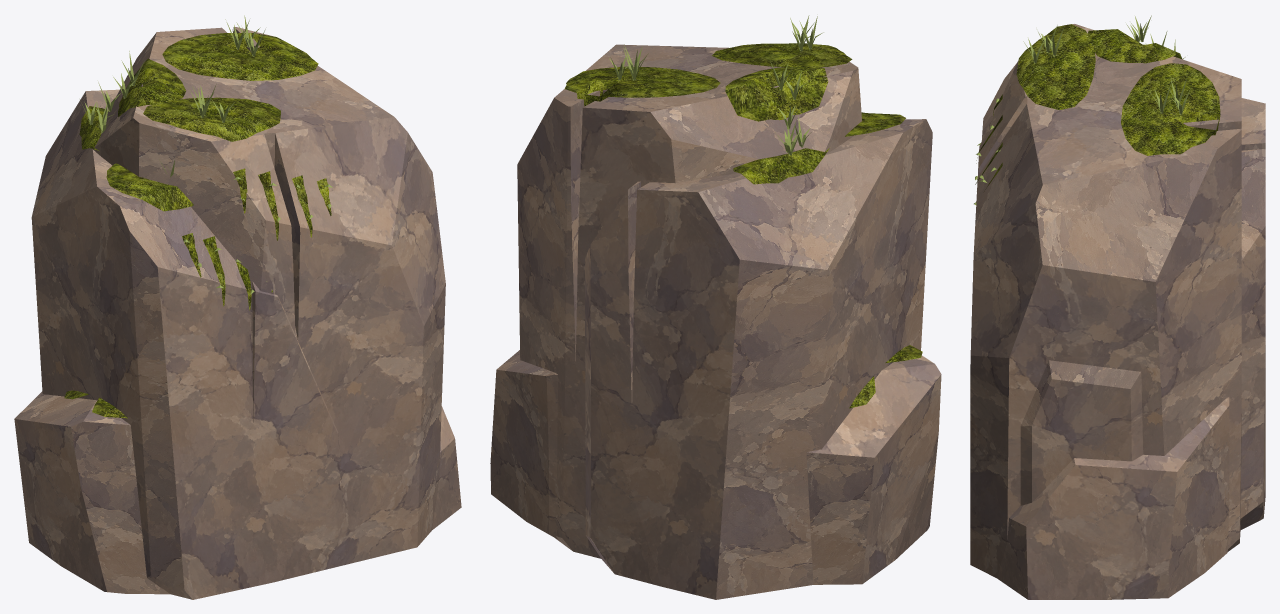
The model's file is rock-kit.glb.
The picture shows the model from 3 angles, left to right: view 1: azimuth 30°, elevation 25°; view 2: azimuth 150°, elevation 25°; view 3: azimuth 270°, elevation 25°; orthographic projection. The views are drawn at different scales.
Parts seen in each view (by area): view 1: cliff-corner__stone, cliff__stone, ledge__stone, cliff__moss, cliff-corner__moss, cliff__plants; view 2: cliff-corner__stone, cliff__stone, ledge__stone, cliff__moss, cliff-corner__moss, cliff__plants, ledge__moss; view 3: cliff__stone, ledge__stone, cliff-corner__stone, cliff__moss, cliff__plants.
Part boxes in pixels (x1,y1,x2,y2): cliff-corner__stone: (31, 89, 348, 599); cliff__stone: (91, 27, 445, 563); ledge__stone: (14, 391, 461, 594); cliff__moss: (118, 33, 331, 240); cliff-corner__moss: (79, 106, 272, 310); cliff__plants: (98, 15, 332, 221); cliff-corner__stone: (585, 119, 932, 599); cliff__stone: (517, 44, 861, 558); ledge__stone: (490, 350, 941, 584); cliff__moss: (564, 43, 852, 121); cliff-corner__moss: (733, 112, 905, 184); cliff__plants: (609, 15, 823, 129); ledge__moss: (849, 345, 922, 408); cliff__stone: (970, 24, 1241, 578); ledge__stone: (997, 397, 1229, 599); cliff-corner__stone: (981, 63, 1265, 529); cliff__moss: (975, 24, 1220, 191); cliff__plants: (976, 15, 1190, 182).
Bounding box in the file's own units: 3.51 × 4.21 × 2.45.
Materials: 3 (2 with a texture image).
